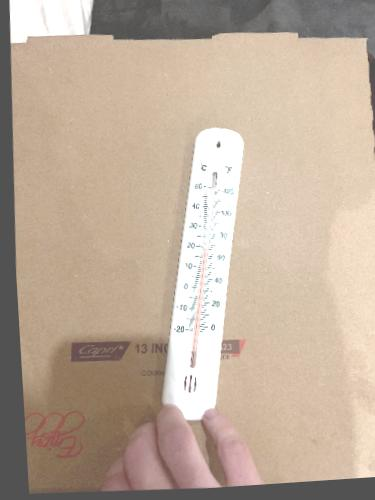thermo: (157, 125, 252, 429)
